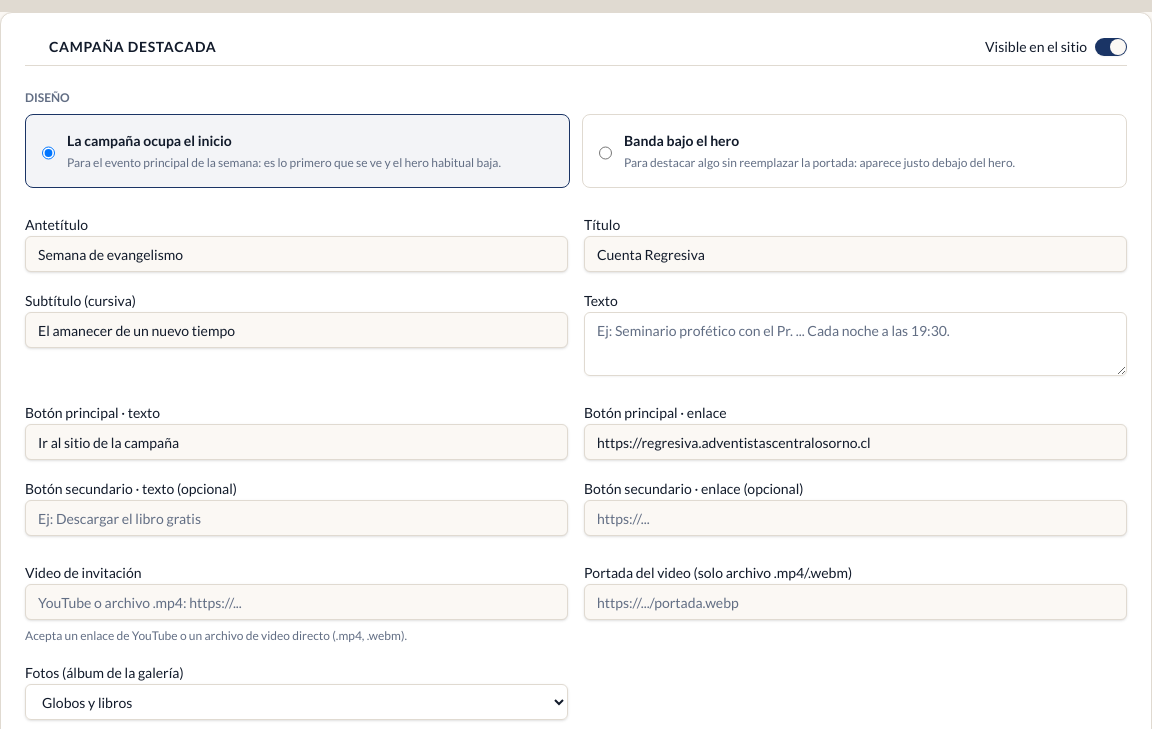
Test: CampaignConfigForm › requires a title when the campaign is visible
The width and height of the screenshot is (1152, 729).
Clear the field labelled "Título": (856, 254) [584,236,1127,272]
(page scrolled)
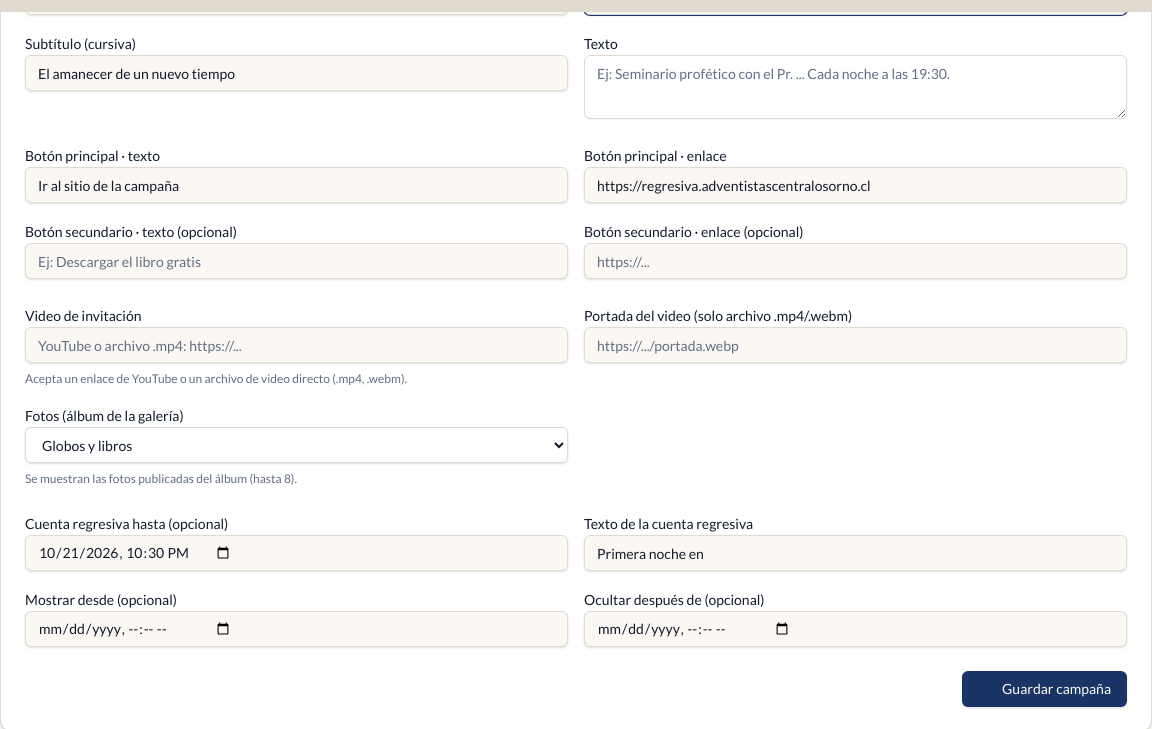
Click the button with test id "campaign-save-button": (1045, 689) [962,671,1127,707]
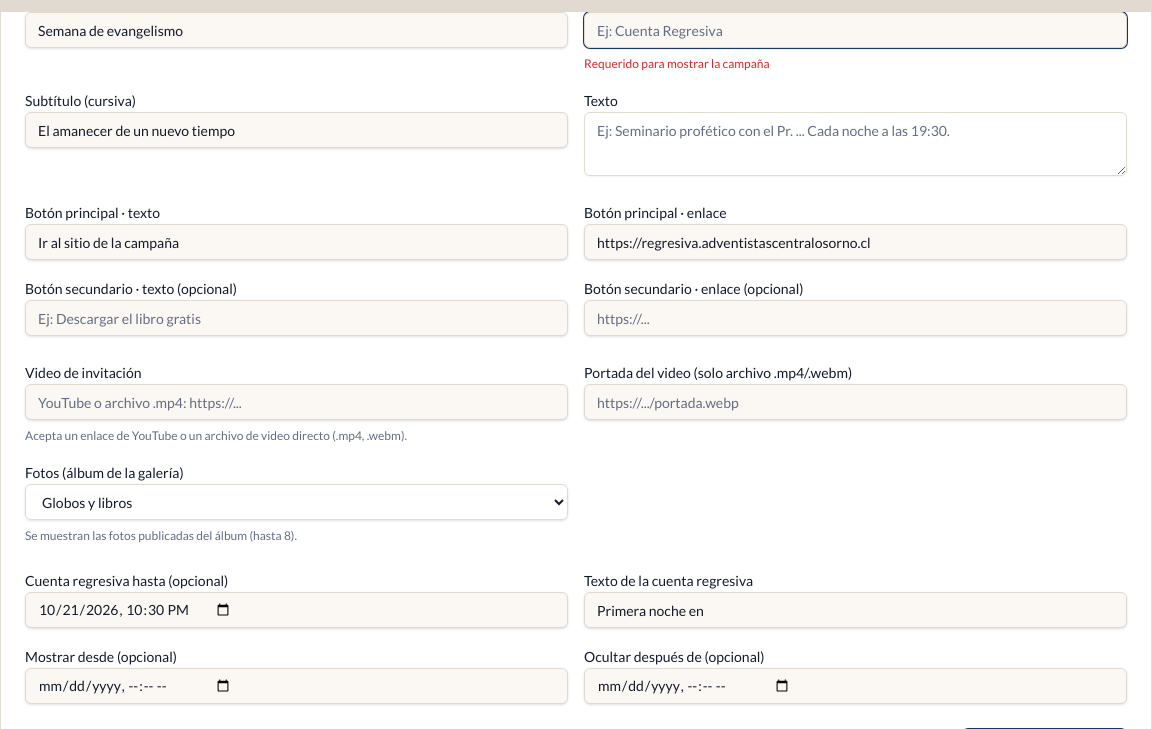
Check: the text "Requerido para mostrar la campaña" is shown, box [584,56,770,71]
